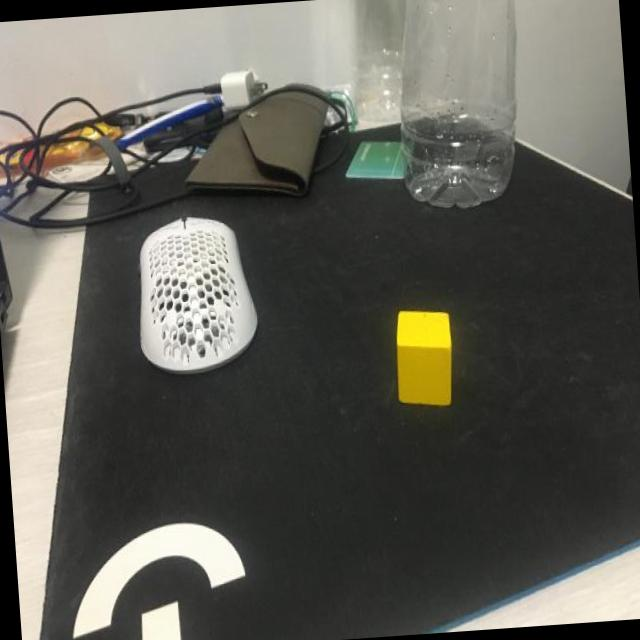yellow: (392, 308, 456, 410)
